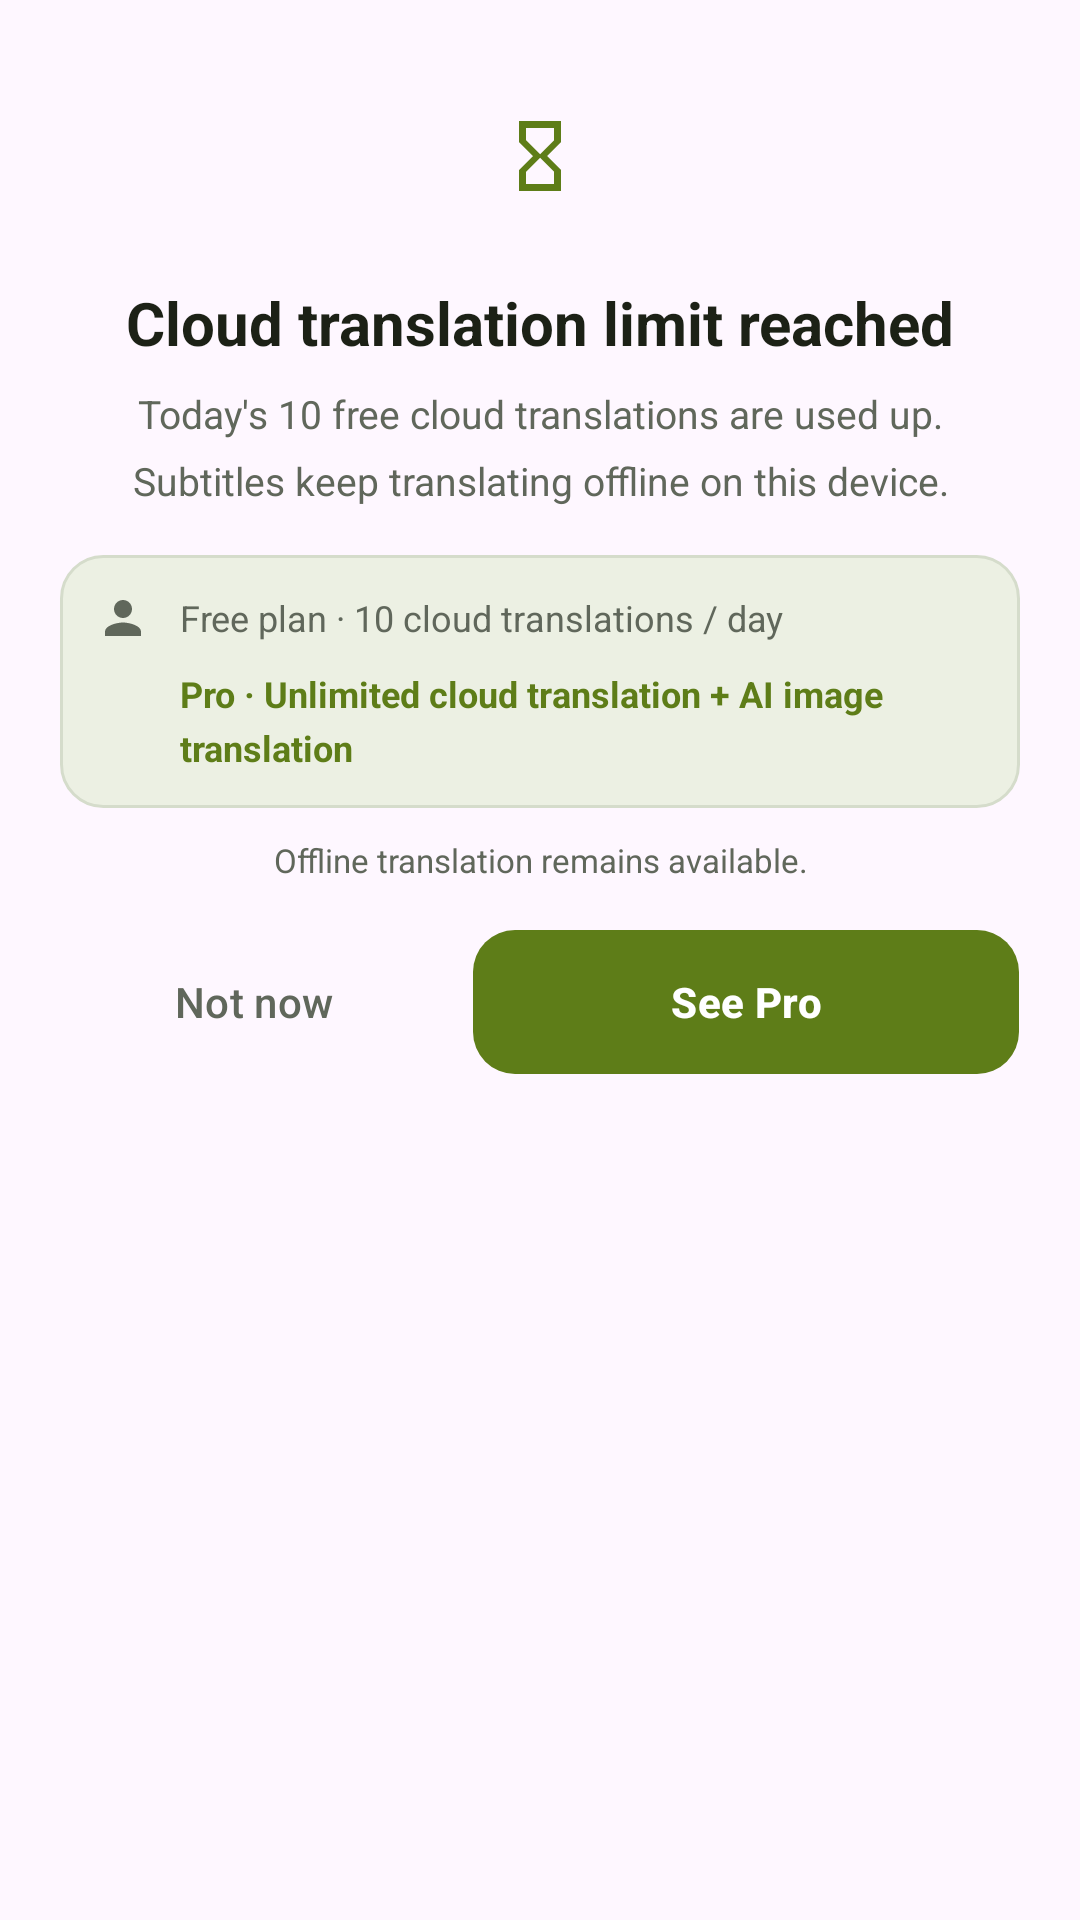

Screen size 1080x1920. Icon name, then its center in pixels as (x,y):
hourglass: (540,156)
person: (123,618)
